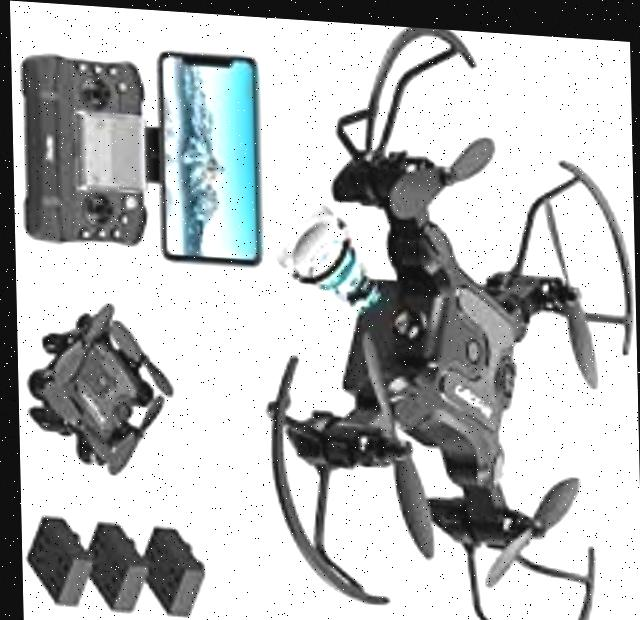drone: (245, 13, 639, 620)
